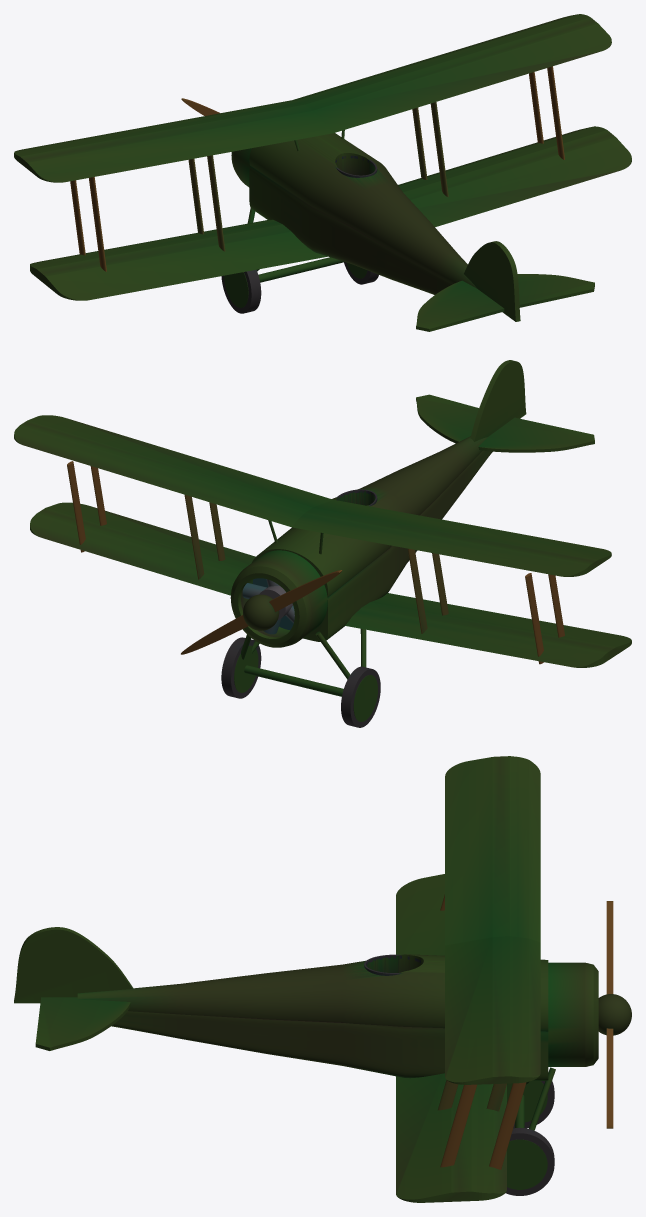
3 renders of one model, top to bottom at view 1: azimuth 30°, elevation 25°; view 2: azimuth 150°, elevation 25°; view 3: azimuth 270°, elevation 25°, orthographic. The views are drawn at different scales.
Visible parts, largest first — view 1: airfoil.001, airfoil, rounded_roof, tailplane, fin, tyre.001, axle, hub.001, strut.004, strut, strut.006, strut.002 (+5 smaller); view 2: airfoil.001, airfoil, rounded_roof, tailplane, cowling, fin, propeller, tyre.001, tyre, spinner, axle, hub.001 (+5 smaller); view 3: airfoil.001, rounded_roof, airfoil, fin, cowling, tailplane, hub, propeller, strut.003, spinner, strut.002, tyre (+1 smaller).
Boxes of the visible parts, bbox=[...] form: airfoil.001: bbox=[14, 14, 611, 182]; airfoil: bbox=[30, 126, 631, 300]; rounded_roof: bbox=[249, 133, 477, 294]; tailplane: bbox=[416, 274, 594, 331]; fin: bbox=[464, 241, 520, 321]; tyre.001: bbox=[221, 269, 261, 313]; axle: bbox=[258, 257, 344, 282]; hub.001: bbox=[224, 272, 248, 307]; strut.004: bbox=[207, 155, 225, 251]; strut: bbox=[430, 102, 448, 196]; strut.006: bbox=[89, 177, 106, 271]; strut.002: bbox=[547, 66, 564, 159]; airfoil.001: bbox=[14, 415, 611, 576]; airfoil: bbox=[30, 502, 631, 667]; rounded_roof: bbox=[252, 436, 492, 641]; tailplane: bbox=[416, 394, 594, 452]; cowling: bbox=[230, 550, 327, 647]; fin: bbox=[470, 360, 526, 441]; propeller: bbox=[181, 570, 342, 654]; tyre.001: bbox=[341, 666, 380, 727]; tyre: bbox=[221, 637, 261, 698]; spinner: bbox=[243, 594, 279, 630]; axle: bbox=[244, 665, 343, 696]; hub.001: bbox=[353, 675, 377, 721]; airfoil.001: bbox=[445, 756, 540, 1084]; rounded_roof: bbox=[77, 954, 548, 1080]; airfoil: bbox=[396, 874, 506, 1202]; fin: bbox=[14, 927, 132, 1003]; cowling: bbox=[548, 962, 598, 1066]; tailplane: bbox=[35, 997, 130, 1050]; hub: bbox=[507, 1139, 547, 1189]; propeller: bbox=[606, 901, 613, 1128]; strut.003: bbox=[489, 1082, 526, 1169]; spinner: bbox=[598, 994, 631, 1035]; strut.002: bbox=[440, 1084, 476, 1167]; tyre: bbox=[505, 1127, 554, 1195].
Bounding box in the file's own units: 7.99 × 2.83 × 6.51.
